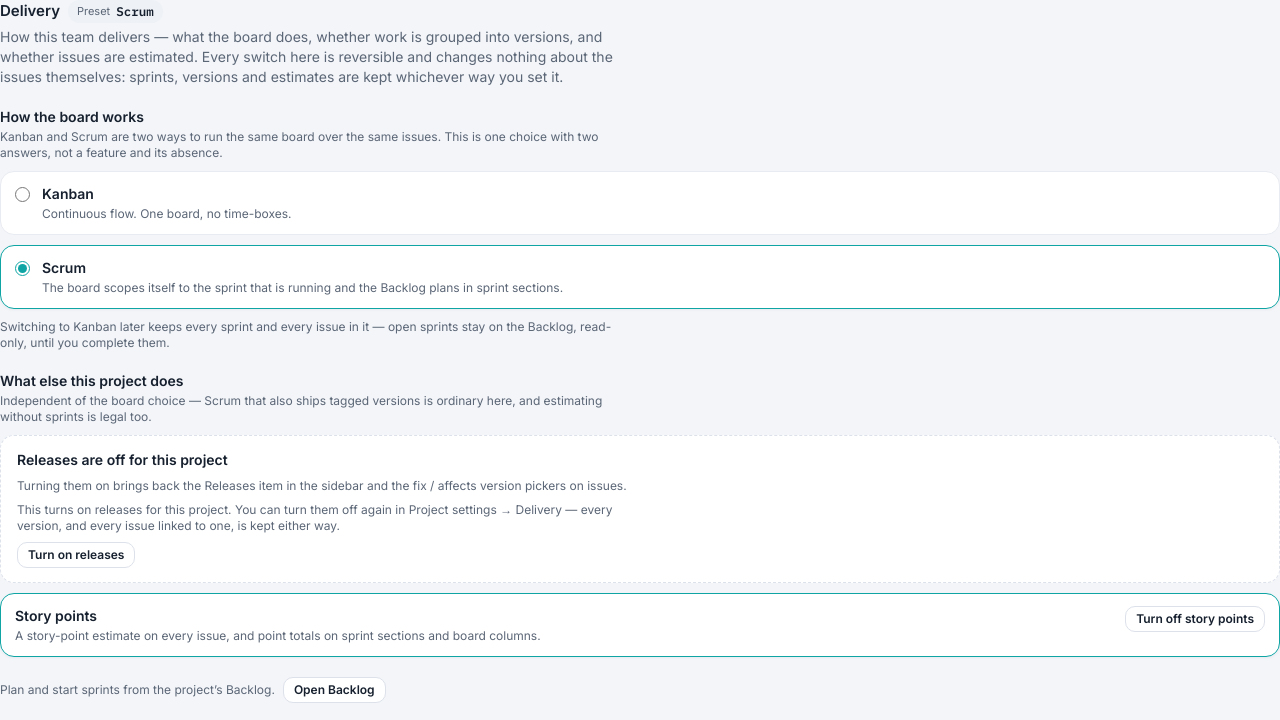
Test: Delivery tab — switching away from Scrum (§13) › confirms with the running sprint named, and states what happens to it
What coordinates should you click on to do the following:
click the radio button labelled "Kanban Continuous flow. One board, no time-boxes."
I would click on:
 (22, 194)
Its box is [15, 187, 30, 202].
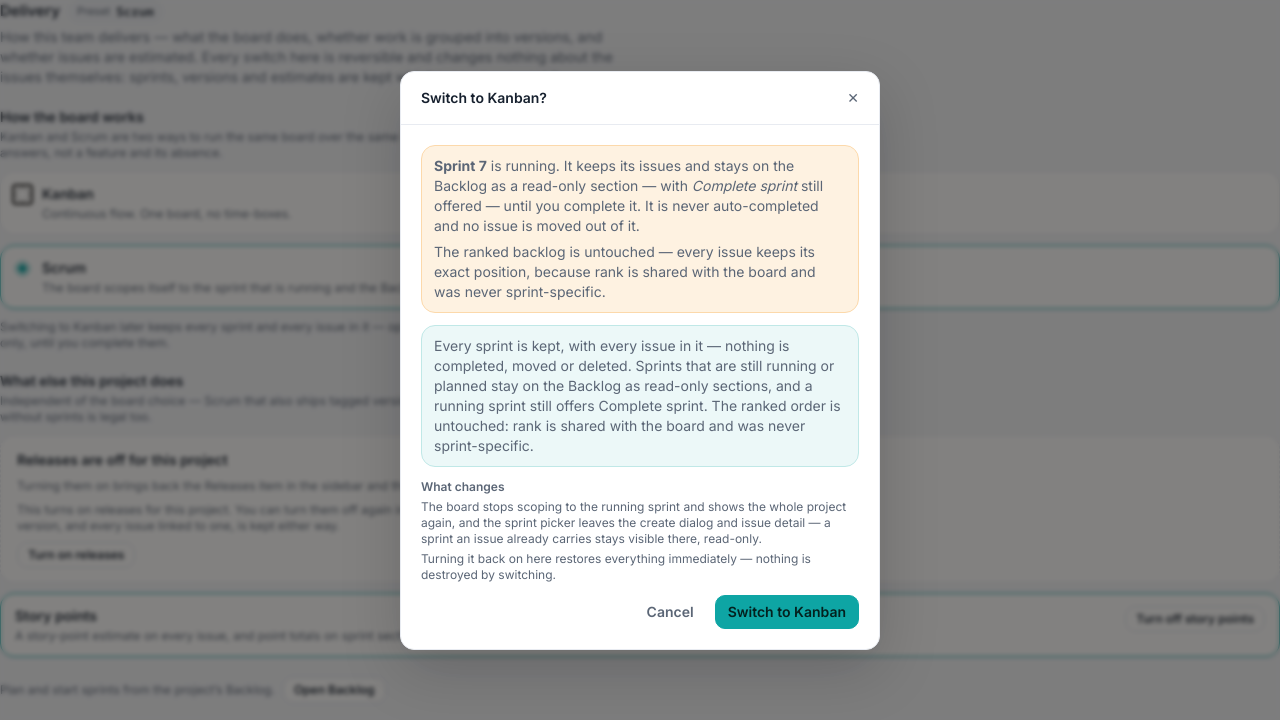
Result: the dialog "Switch to Kanban?" shows "Sprint 7 is running" at [400, 70, 880, 650]
Result: the dialog "Switch to Kanban?" shows "read-only section" at [434, 156, 794, 194]
Result: the dialog "Switch to Kanban?" shows "Complete sprint" at [692, 176, 797, 194]
